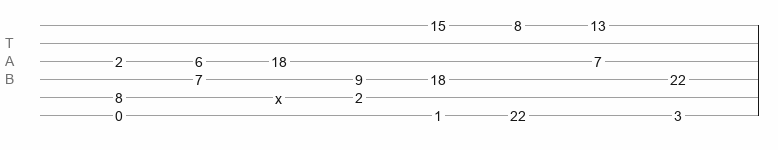0: (115, 108, 123, 118)
1: (434, 108, 442, 118)
13: (590, 18, 606, 28)
15: (430, 18, 446, 28)
18: (271, 54, 287, 64), (430, 72, 446, 82)
2: (115, 54, 123, 64), (355, 90, 363, 100)
22: (510, 108, 526, 118), (670, 72, 686, 82)
3: (674, 108, 682, 118)
6: (195, 54, 203, 64)
7: (195, 72, 203, 82), (594, 54, 602, 64)
8: (115, 90, 123, 100), (514, 18, 522, 28)
9: (355, 72, 363, 82)
x: (275, 91, 282, 99)
